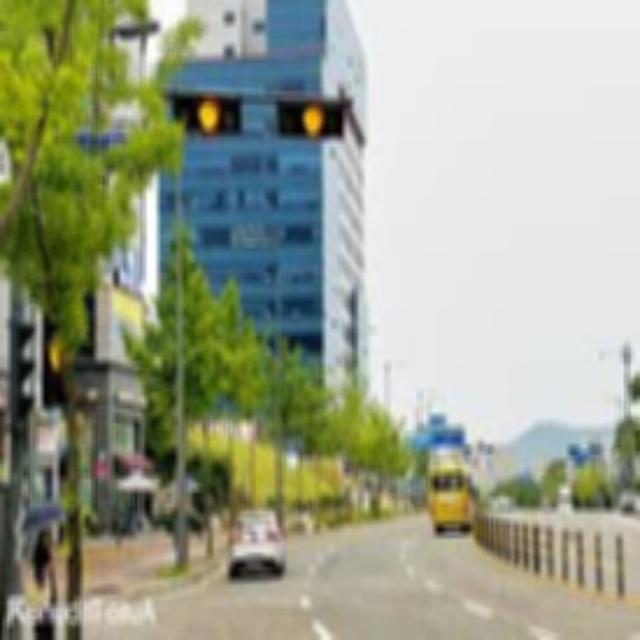yellow_light: (299, 104, 326, 134), (198, 101, 219, 128)
